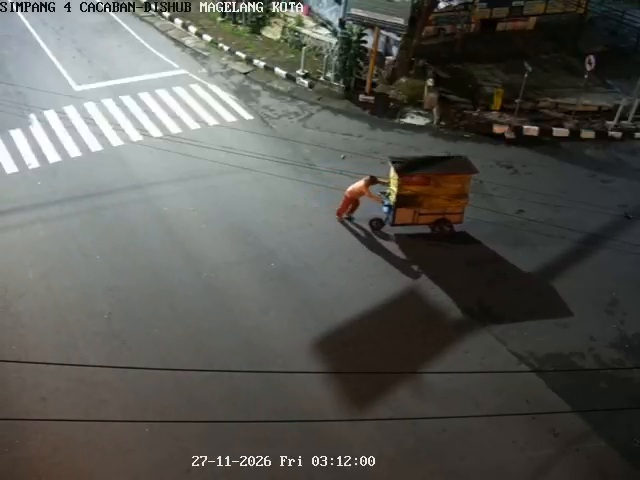Gerobak: (369, 155, 478, 233)
